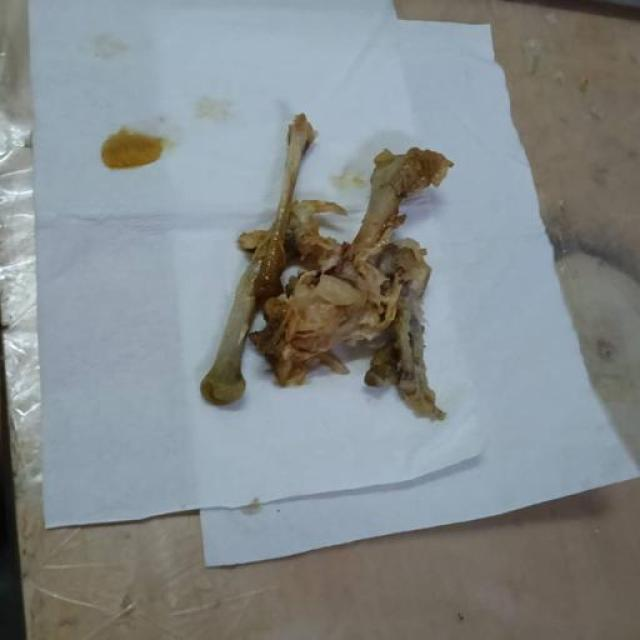organic: (203, 63, 493, 466)
